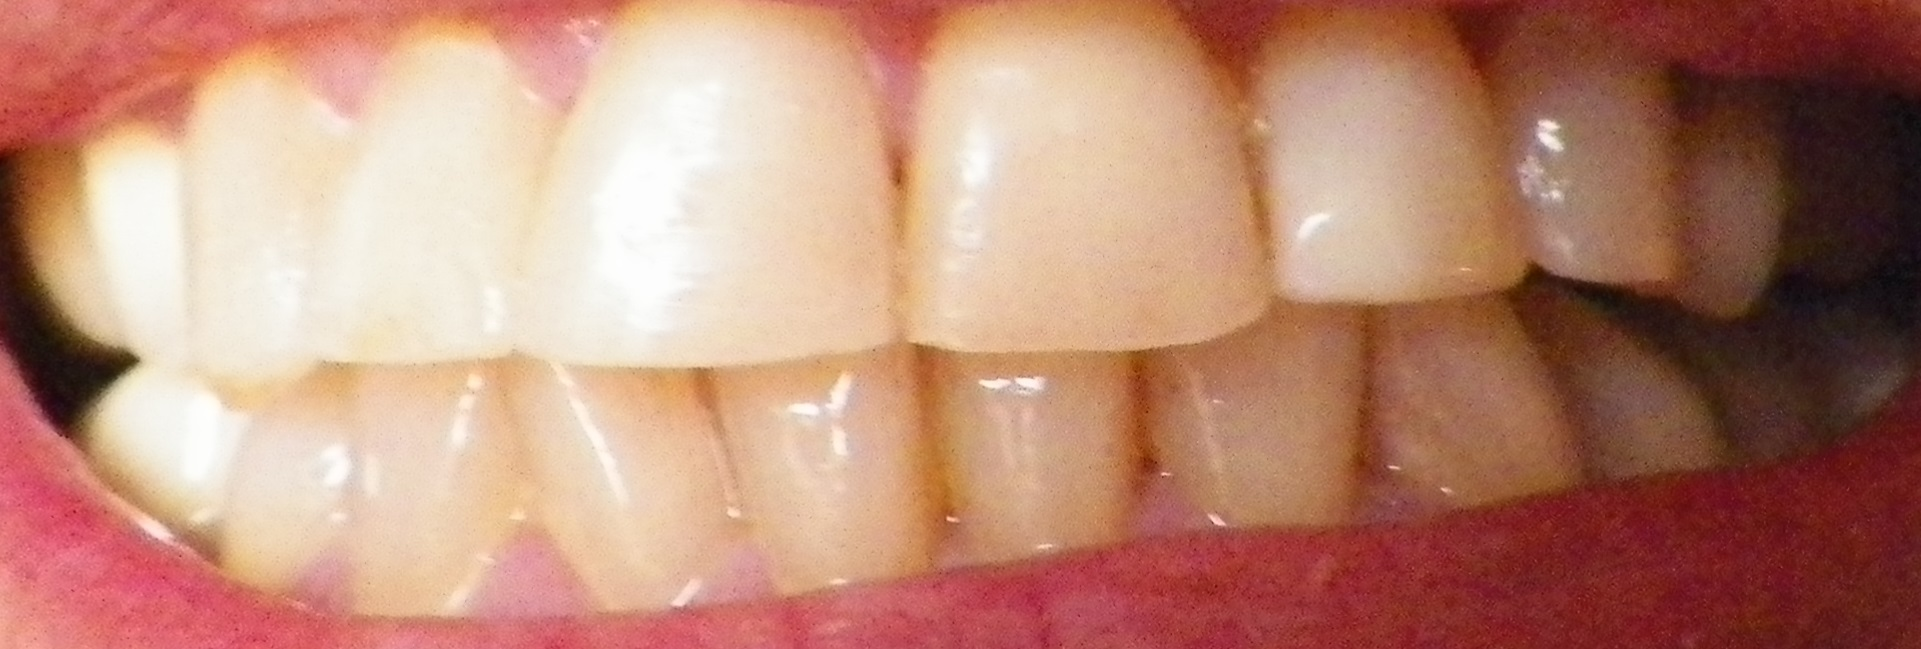boca: (18, 2, 1786, 610)
